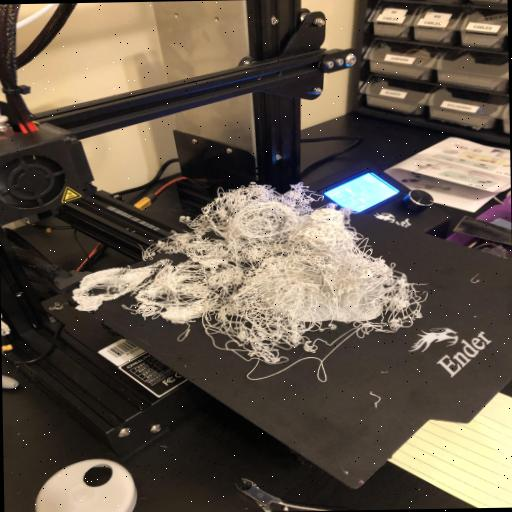spaghetti: (123, 174, 435, 382)
